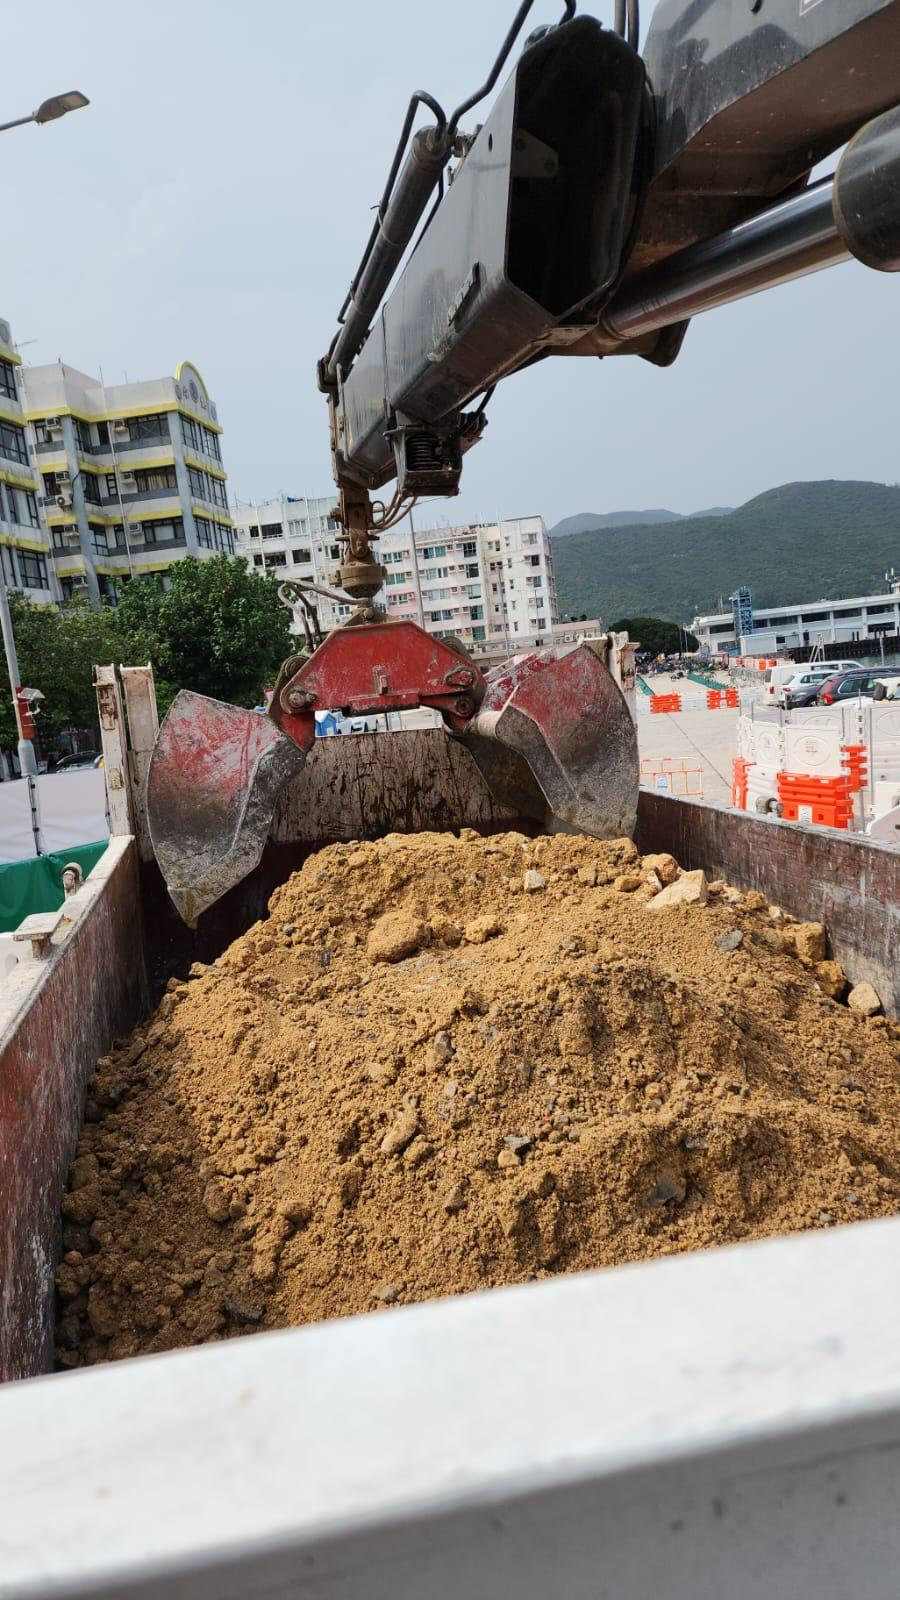dry: (65, 818, 900, 1370)
